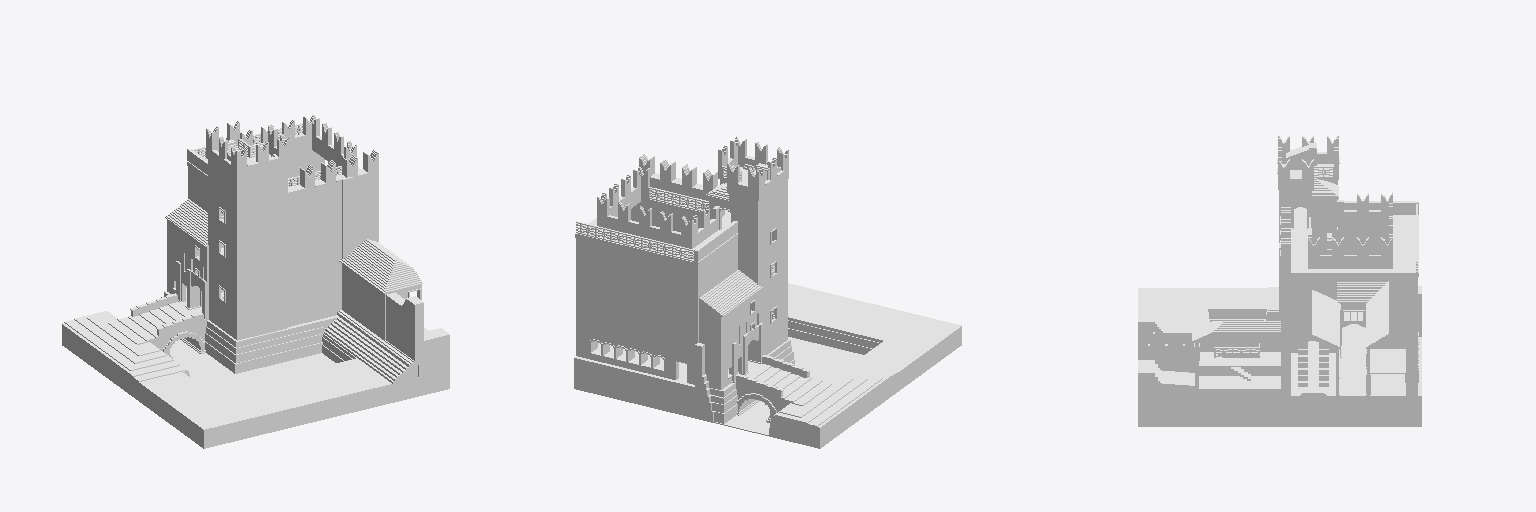
Rendered from castelloVillafranca-47.obj.
3 views of the same model, side by side, from view 1: azimuth 30°, elevation 25°; view 2: azimuth 150°, elevation 25°; view 3: azimuth 270°, elevation 25° (orthographic).
Parts seen in each view (by area): view 1: object 1; view 2: object 1; view 3: object 1.
Part boxes in pixels (bbox=[...]): object 1: bbox=[62, 114, 449, 448]; object 1: bbox=[574, 136, 961, 448]; object 1: bbox=[1138, 135, 1421, 426].
Size of the model in its own units: 25.6 by 22 by 25.6.